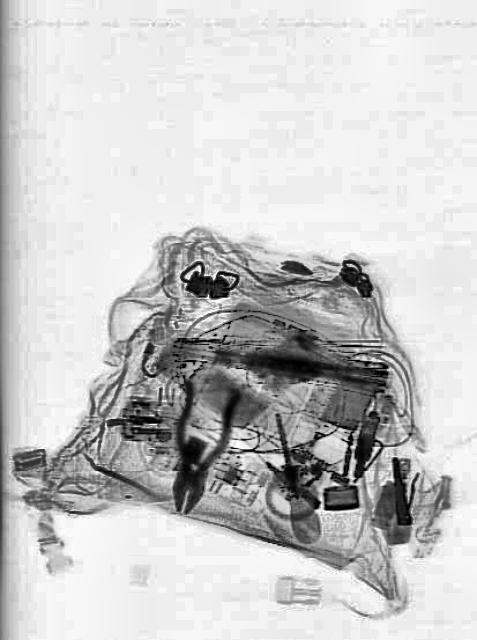Pliers: (152, 371, 240, 524)
